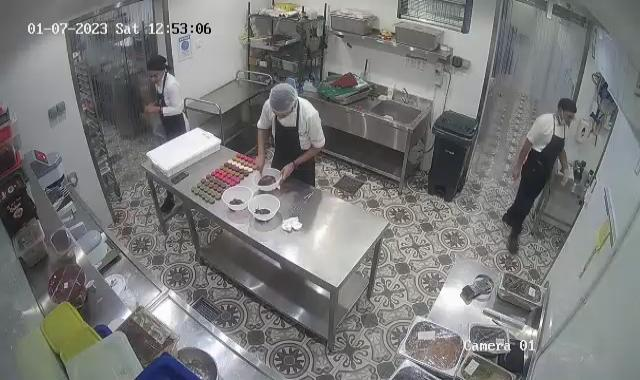hairnet: (268, 83, 299, 119)
no_hairnet: (555, 96, 578, 124), (146, 55, 170, 80)
